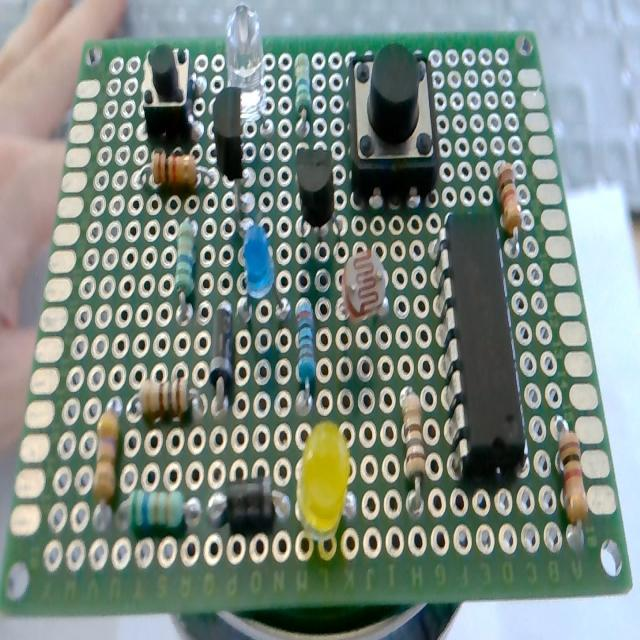IC: (446, 212, 526, 480)
cds: (336, 246, 392, 332)
diode: (210, 476, 282, 533), (210, 301, 234, 405)
led: (288, 419, 357, 544), (224, 5, 275, 136), (237, 226, 290, 328)
resistor: (124, 490, 196, 538), (399, 392, 426, 514), (294, 296, 317, 415), (559, 429, 587, 523), (175, 216, 198, 323), (140, 375, 192, 422), (94, 410, 120, 503), (497, 163, 523, 254), (150, 147, 197, 190), (294, 53, 313, 136)
switch: (348, 45, 438, 206), (142, 44, 191, 140)
transistor: (296, 147, 336, 254), (213, 87, 244, 219)
